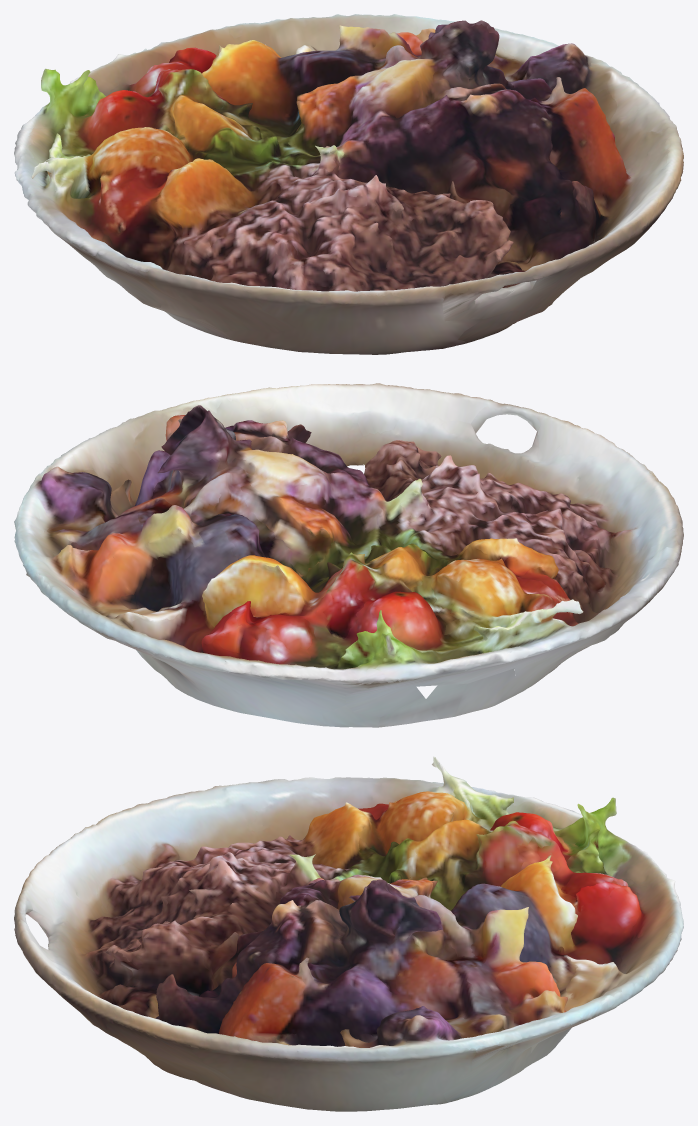
Rendered from sweet_potato__red_rice_bowl_scaniverse_lidar.glb.
3 renders of one model, top to bottom at view 1: azimuth 30°, elevation 25°; view 2: azimuth 150°, elevation 25°; view 3: azimuth 270°, elevation 25°, orthographic.
Parts seen in each view (by area): view 1: mesh_main_0 (×2); view 2: mesh_main_0 (×2); view 3: mesh_main_0 (×2).
Boxes of the visible parts, x1,y1,x2,y2 form: mesh_main_0 (×2): [14, 14, 683, 354]; mesh_main_0 (×2): [14, 383, 683, 727]; mesh_main_0 (×2): [14, 756, 683, 1111].
Bounding box in the file's own units: 0.2335 × 0.077 × 0.2326.
Materials: 1 (1 with a texture image).
